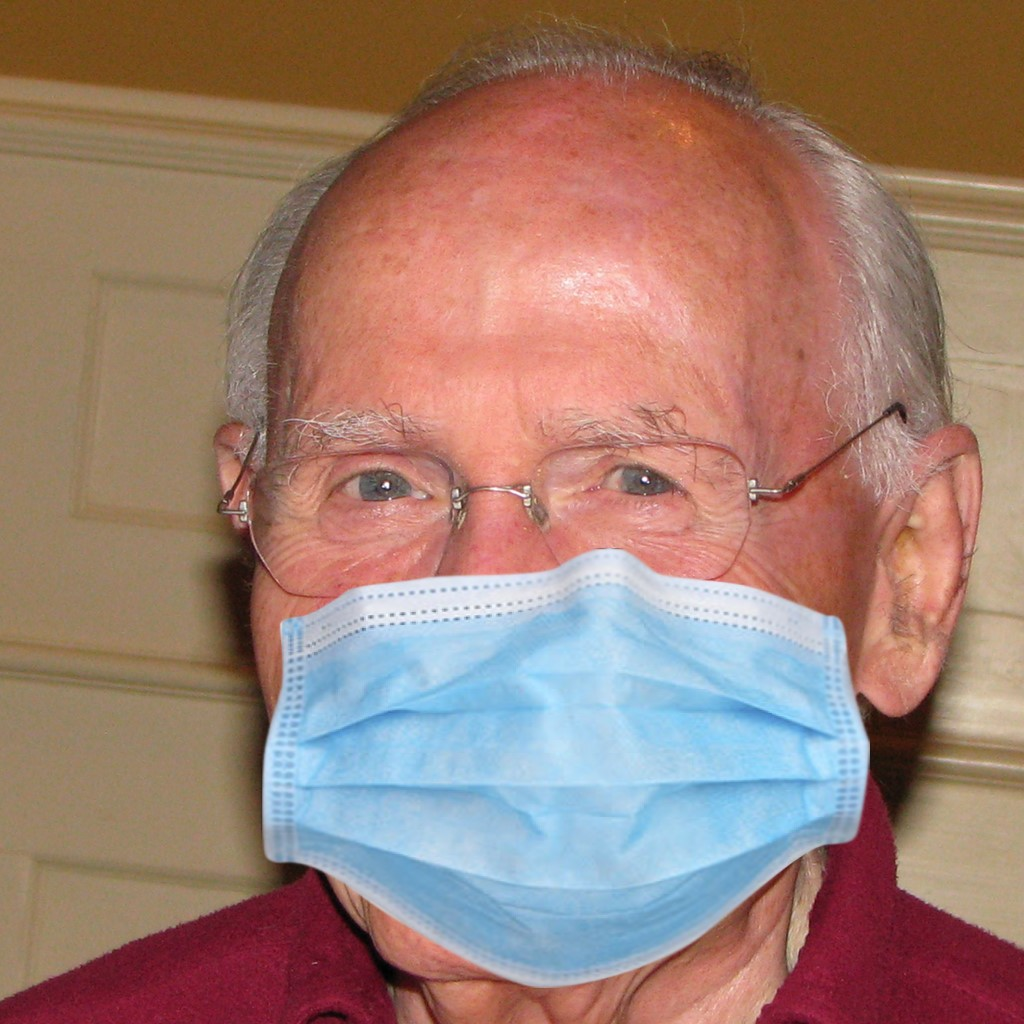con_mascara: (256, 99, 880, 953)
